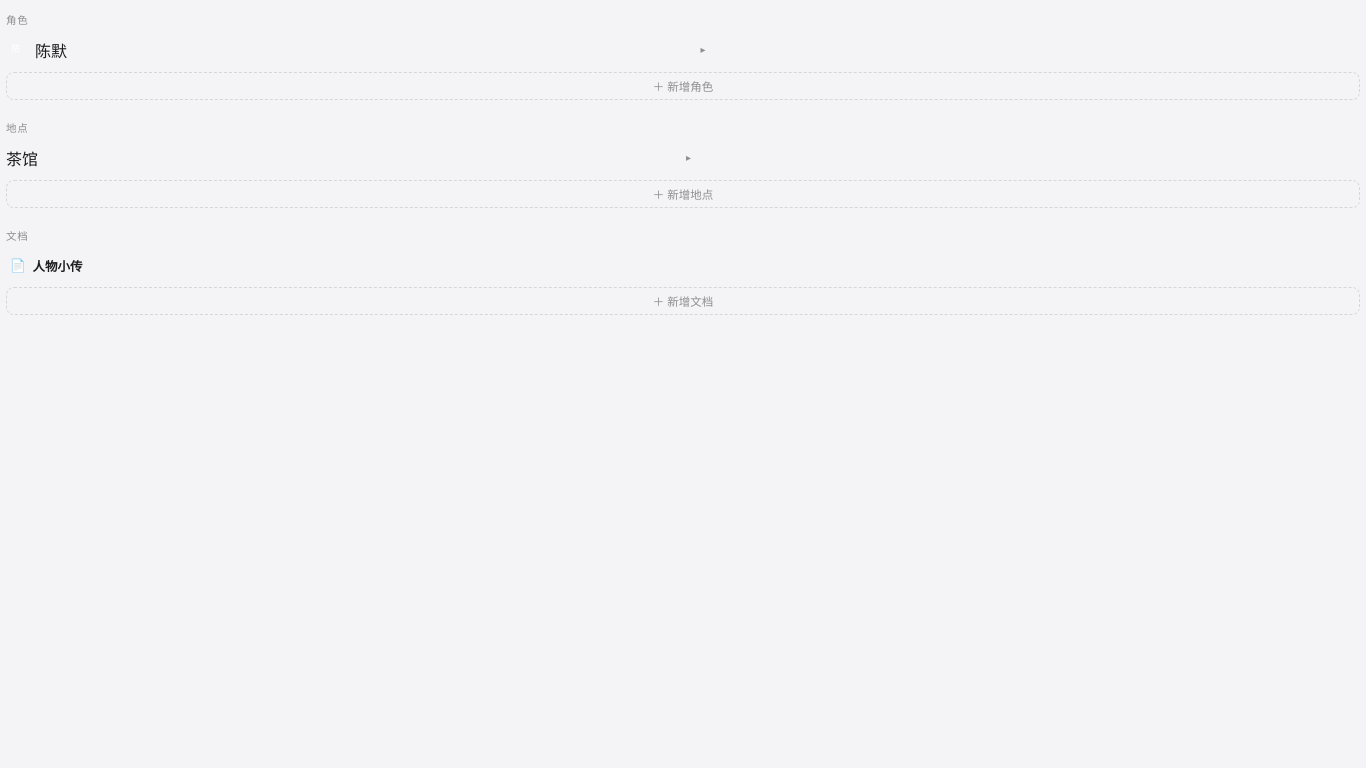
Test: 角色详情表单（issue 95） › 点击条目展开控件展开表单：名称与小传回填现值，未派发任何命令
Click the button named "编辑角色 陈默". click: (703, 50)
box: 695,43 -> 710,57
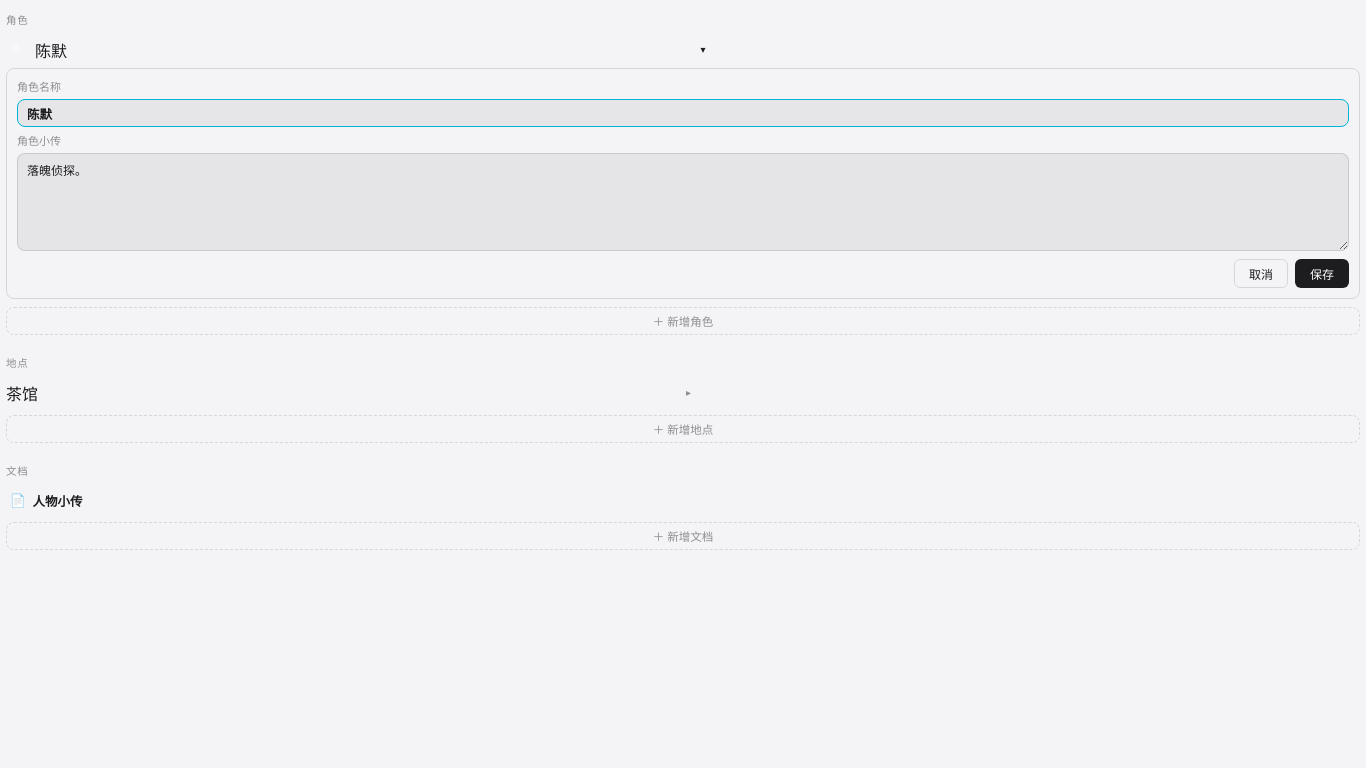
expect the field showing "陈默" is shown: met, box 17,99 -> 1349,127
expect the text box showing "落魄侦探。" is shown: met, box 17,153 -> 1349,251
